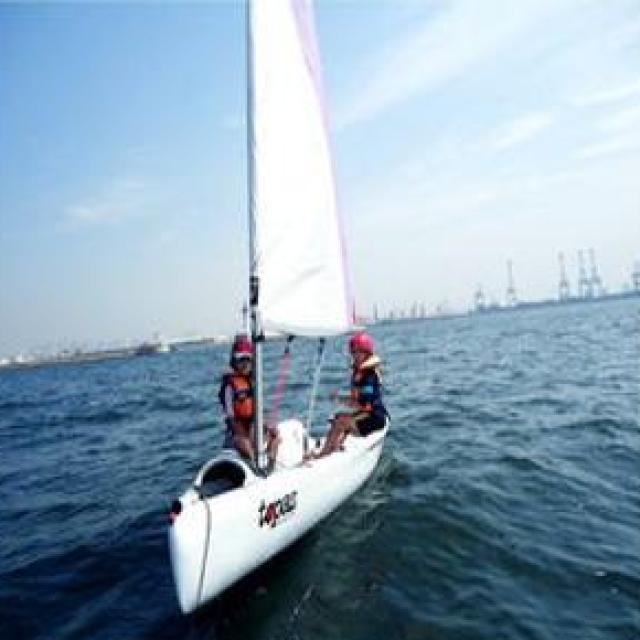sailboat: (157, 1, 393, 606)
